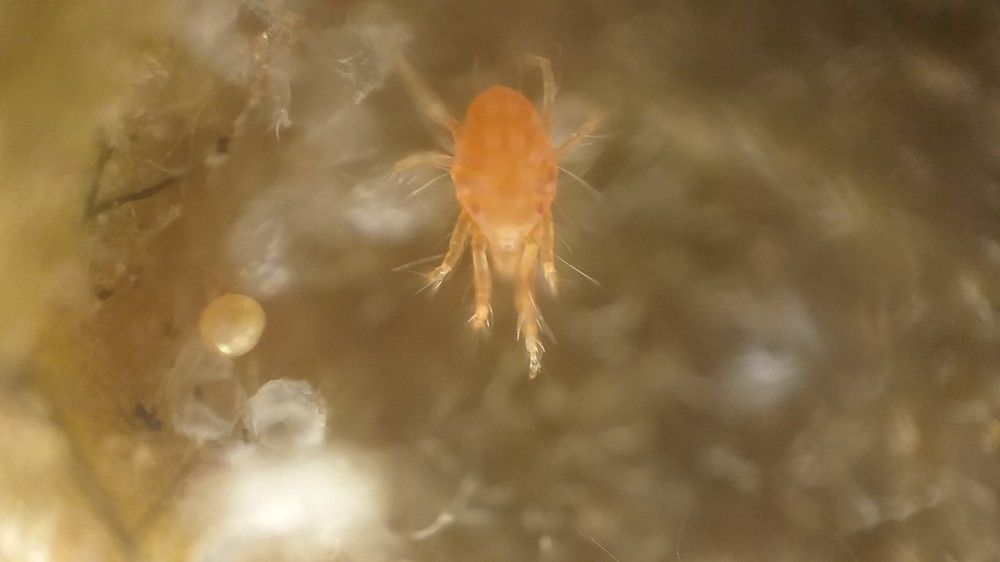Aracnido Rojo: (368, 39, 642, 417)
